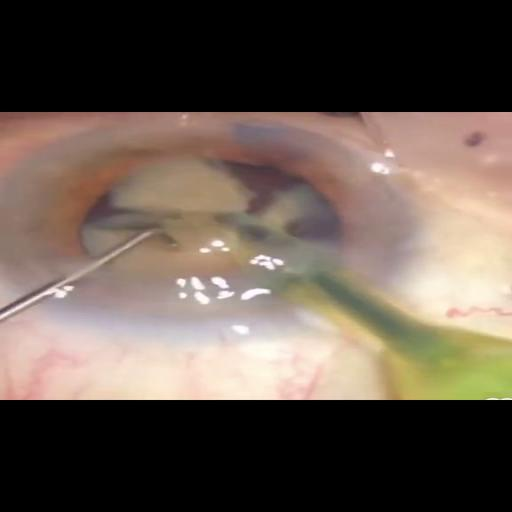catarata: (82, 159, 328, 309)
cornea: (36, 108, 412, 335)
pupil: (43, 140, 364, 307)
